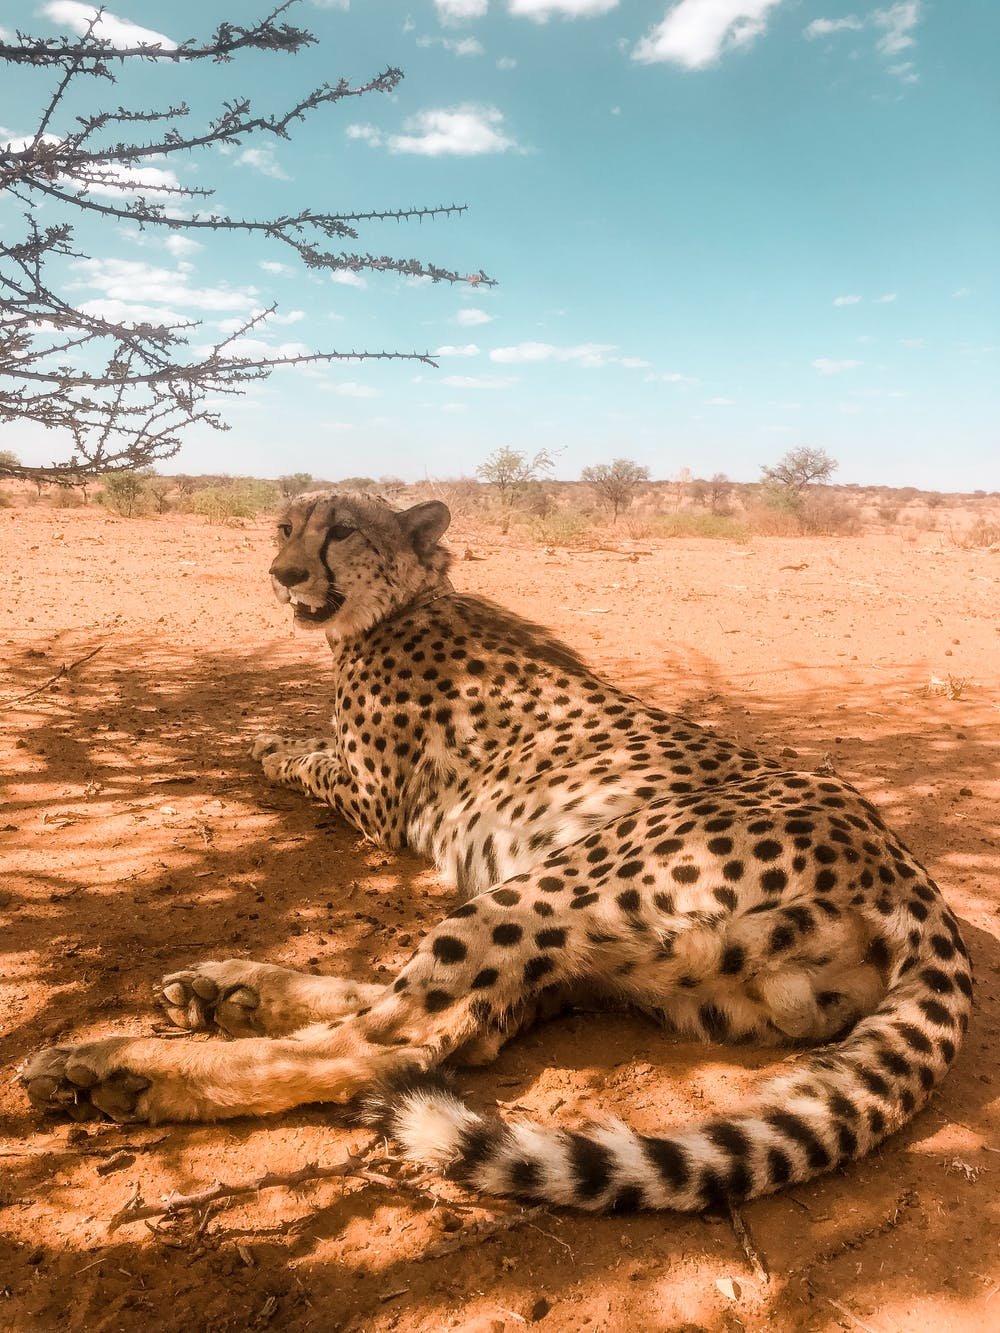cheetah: (229, 464, 457, 652)
